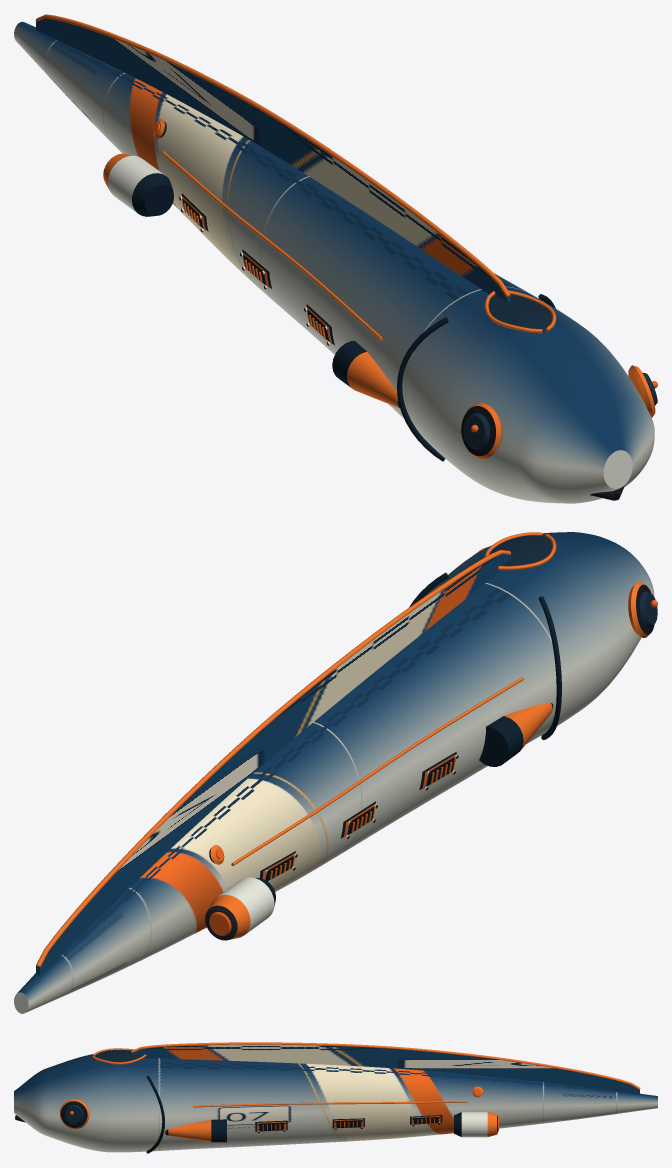
3 renders of one model, top to bottom at view 1: azimuth 30°, elevation 25°; view 2: azimuth 150°, elevation 25°; view 3: azimuth 270°, elevation 25°, orthographic. The views are drawn at different scales.
Visible parts, largest first — view 1: moray_hull; view 2: moray_hull; view 3: moray_hull.
Boxes of the visible parts, box(x1,y1,x2,y2) form: moray_hull: box(14, 14, 657, 503); moray_hull: box(14, 532, 657, 1013); moray_hull: box(14, 1042, 657, 1153).
Bounding box in the file's own units: 10.79 × 10.8 × 60.
1 material, 1 textured.
